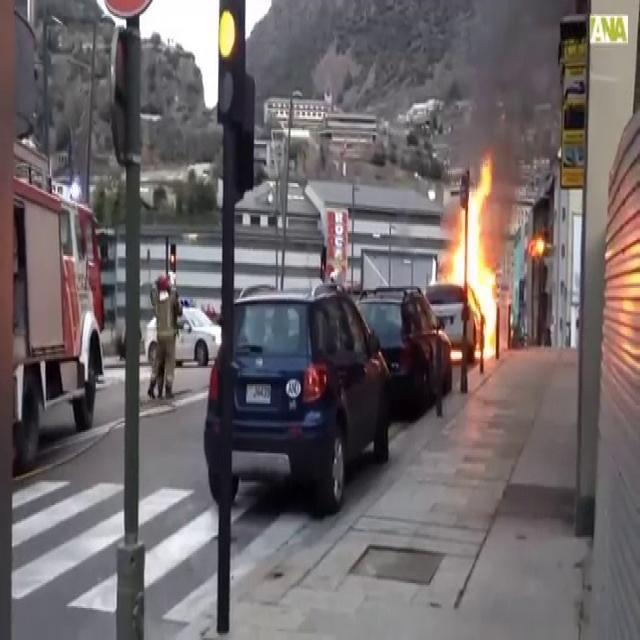Fire: (443, 151, 504, 357), (528, 226, 549, 264)
Smoke: (457, 0, 558, 178)
